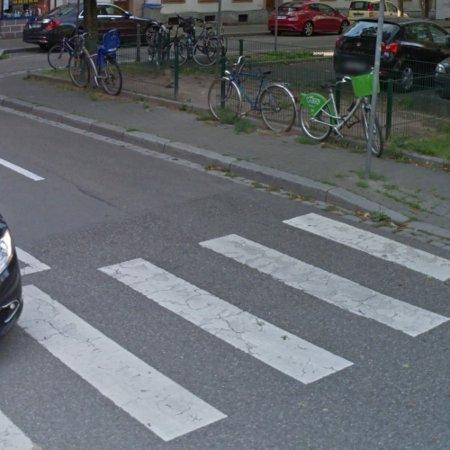crosswalks: (0, 211, 448, 450)
